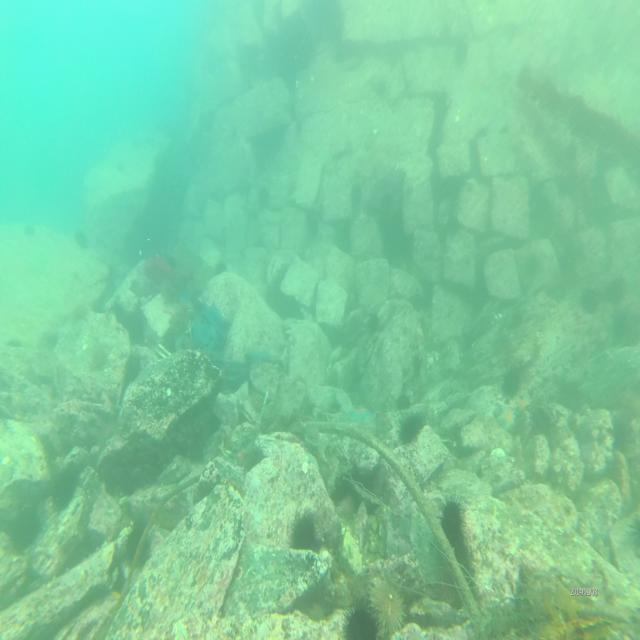echinus: (368, 574, 409, 636), (439, 492, 466, 544), (342, 598, 375, 640), (123, 520, 151, 566), (399, 410, 430, 447), (614, 306, 640, 342), (292, 513, 316, 551), (581, 282, 601, 314)
starfish: (346, 401, 376, 424), (498, 400, 520, 430)
